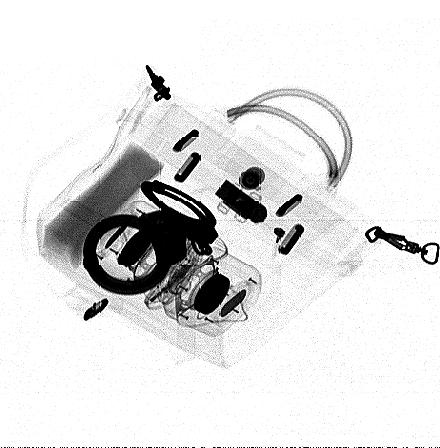HandCuffs: (81, 179, 219, 295)
